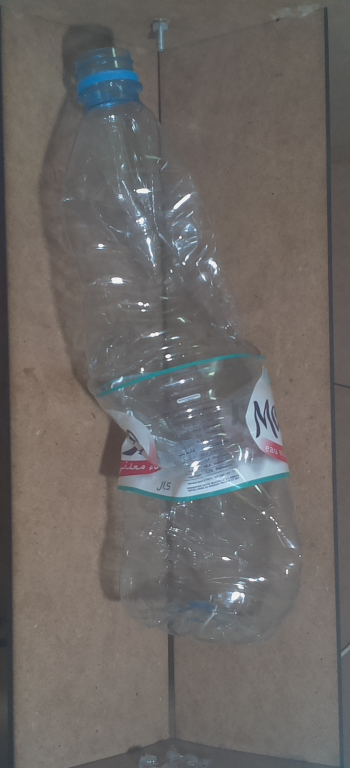Bouteille_1.5L: (50, 40, 310, 650)
